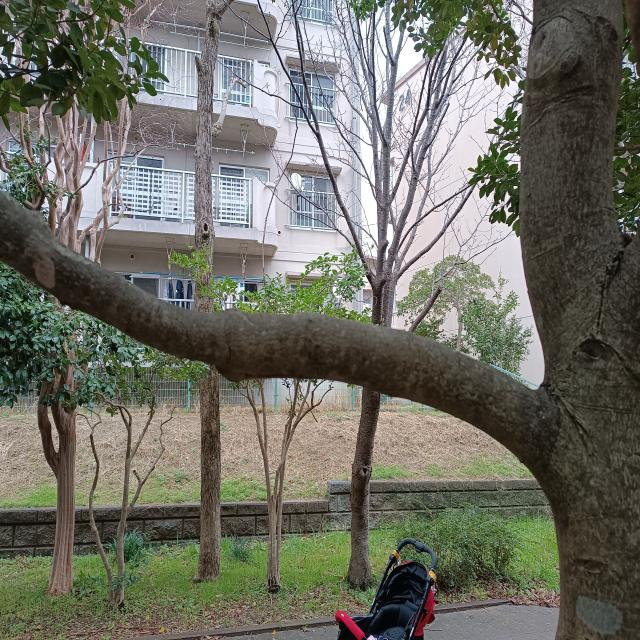Branch: (0, 182, 547, 494)
